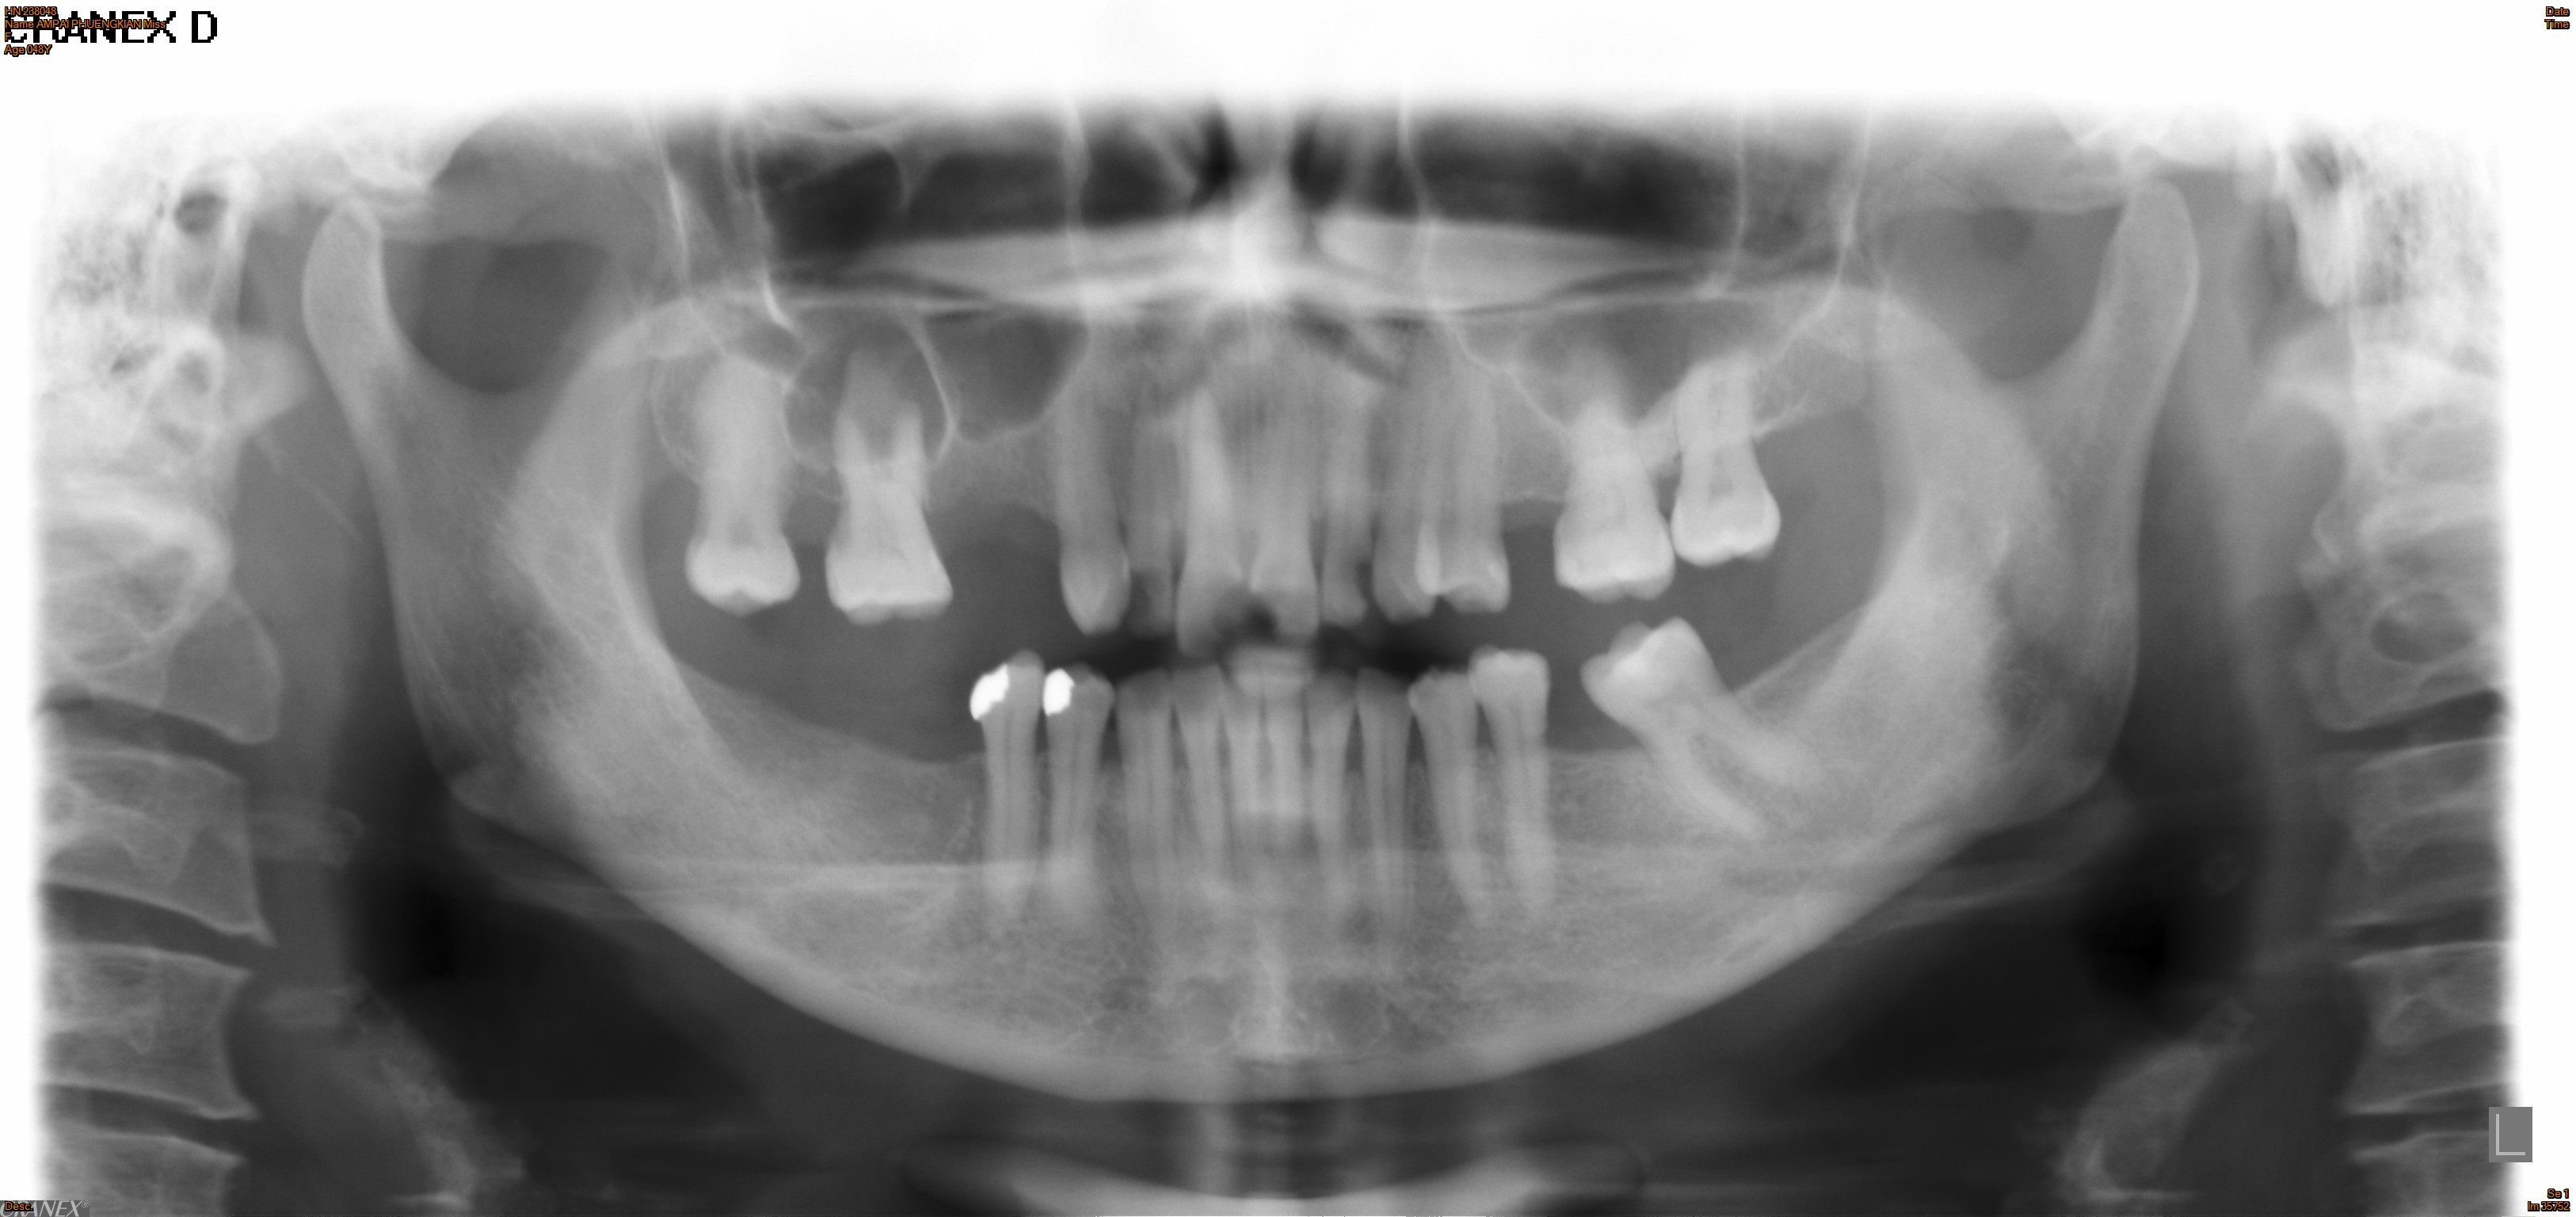periodontitis: (1576, 613, 1833, 859), (1544, 335, 1686, 608), (820, 393, 969, 636), (1661, 337, 1791, 575), (1035, 356, 1142, 639), (963, 647, 1048, 949)
